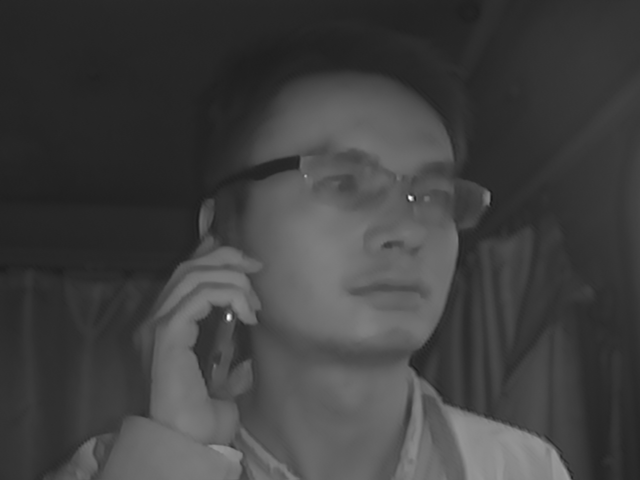hand: (130, 245, 265, 448)
